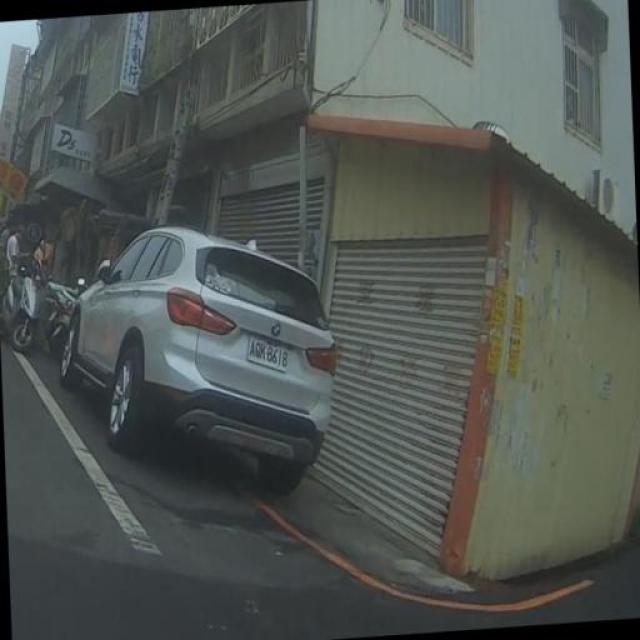illegalparking: (26, 204, 365, 504)
